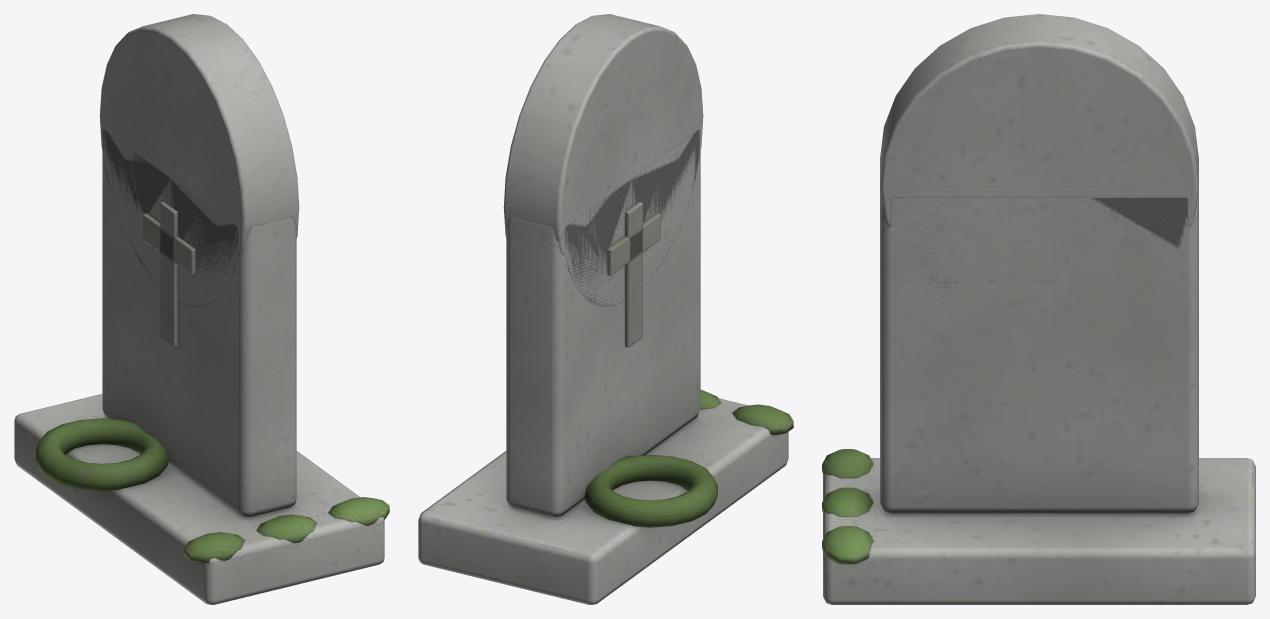
Rendered from gravestone.glb.
3 renders of one model, left to right at view 1: azimuth 30°, elevation 25°; view 2: azimuth 150°, elevation 25°; view 3: azimuth 270°, elevation 25°, orthographic. The views are drawn at different scales.
Parts seen in each view (by area): view 1: Gravestone; view 2: Gravestone; view 3: Gravestone.
Part boxes in pixels (x1,y1,x2,y2): Gravestone: (14, 14, 389, 604); Gravestone: (418, 14, 793, 604); Gravestone: (822, 14, 1255, 604).
Bounding box in the file's own units: 0.641 × 1.29 × 0.9521.
Materials: 3 (3 with a texture image).
